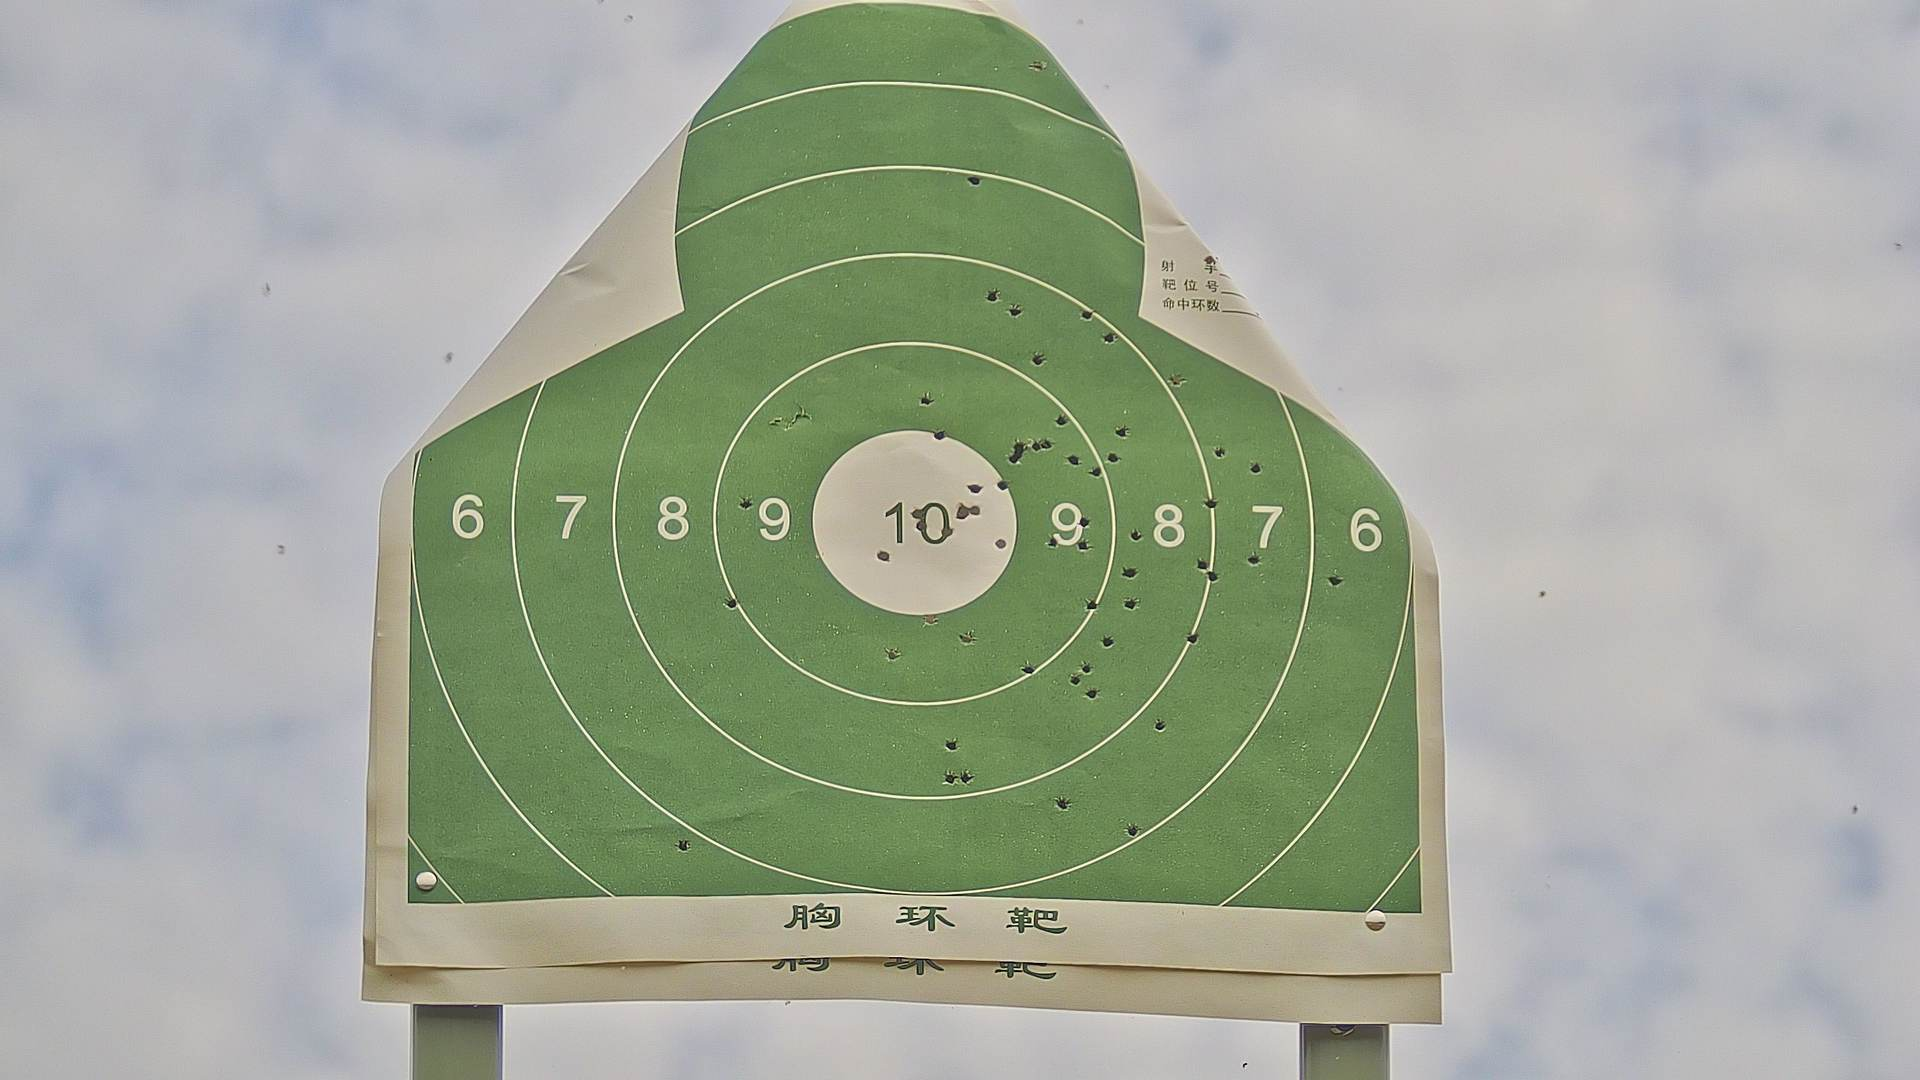hole: (1121, 818, 1146, 839), (1118, 562, 1145, 582), (676, 832, 698, 856), (1029, 349, 1054, 369), (732, 492, 756, 512), (1048, 791, 1072, 811), (1242, 550, 1267, 568), (1121, 592, 1141, 615), (938, 522, 961, 541), (957, 626, 981, 645), (953, 500, 971, 525), (1009, 299, 1025, 323), (1184, 626, 1204, 645), (1325, 572, 1346, 589), (915, 392, 938, 407), (723, 596, 745, 612), (960, 764, 975, 787), (963, 170, 981, 189), (874, 546, 893, 564), (1102, 327, 1120, 347), (909, 500, 926, 520), (1076, 512, 1096, 529), (1106, 450, 1124, 468), (969, 502, 988, 520), (1084, 595, 1101, 613), (1077, 659, 1096, 676), (1087, 684, 1104, 703), (1011, 438, 1029, 456), (1151, 715, 1167, 735), (942, 767, 956, 789), (1040, 436, 1054, 459), (914, 520, 931, 537), (1212, 444, 1229, 462), (997, 477, 1014, 495), (1098, 632, 1116, 649), (923, 611, 940, 628), (1017, 659, 1034, 676), (1089, 463, 1105, 481), (1205, 568, 1221, 587), (943, 735, 959, 753), (994, 531, 1009, 551), (1113, 425, 1134, 438), (1065, 454, 1083, 469), (1204, 495, 1220, 512), (1067, 670, 1083, 687), (1168, 372, 1184, 389), (1077, 535, 1092, 554), (1029, 58, 1047, 73), (964, 483, 986, 495), (1029, 438, 1042, 458), (984, 286, 1000, 302), (1193, 556, 1209, 572), (932, 429, 949, 443), (1054, 411, 1068, 429), (1129, 529, 1146, 543), (1006, 448, 1021, 465), (1249, 460, 1265, 475), (1044, 531, 1058, 549), (885, 646, 899, 661), (1081, 306, 1095, 320)
kernel: (919, 520, 920, 527)
target: (413, 5, 1422, 907)
ten: (808, 427, 1022, 616)
